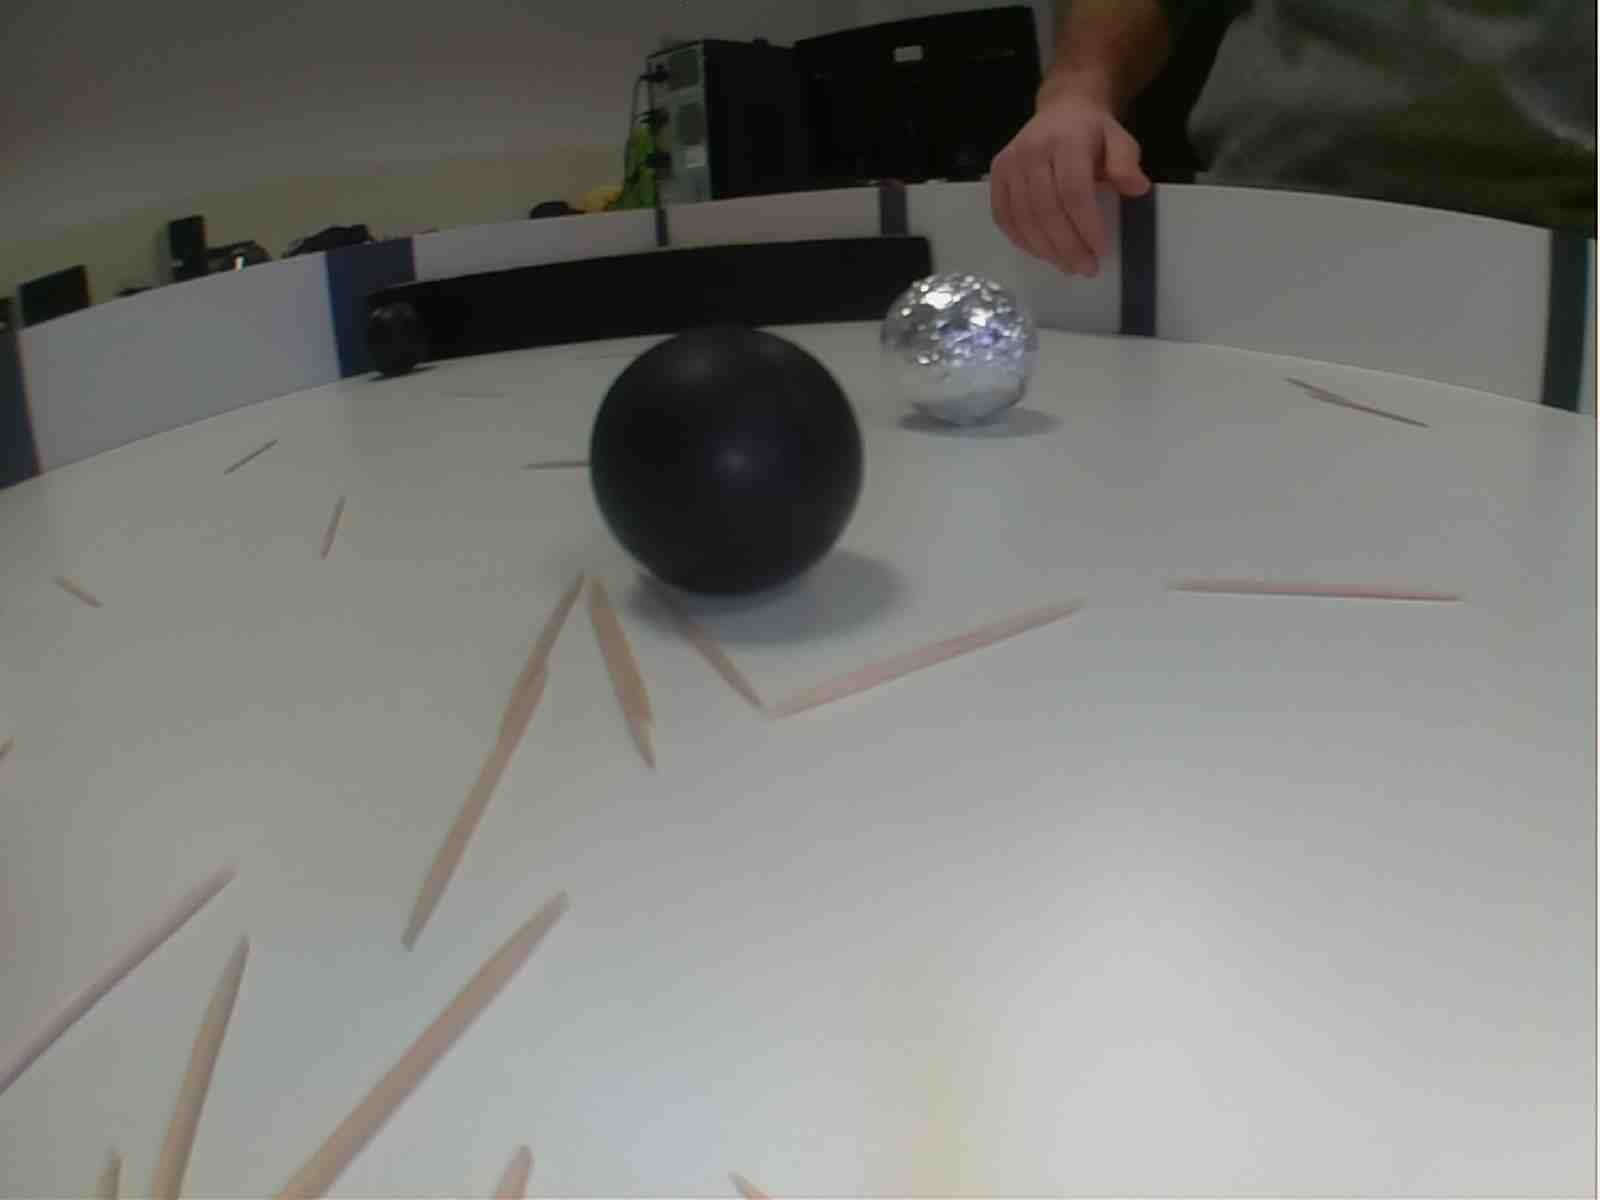bianca: (877, 268, 1037, 429)
nera: (593, 326, 873, 606), (362, 303, 427, 377)
